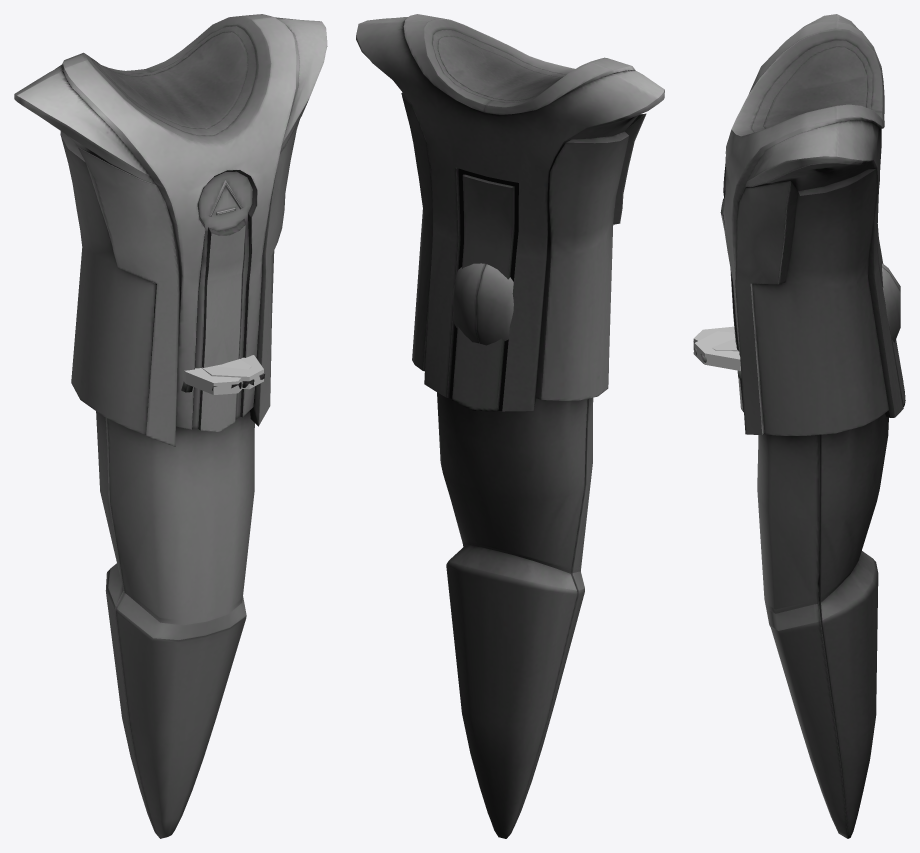
The model's file is s-series-m01.obj.
The picture shows the model from 3 angles, left to right: view 1: azimuth 30°, elevation 25°; view 2: azimuth 150°, elevation 25°; view 3: azimuth 270°, elevation 25°; orthographic projection. The views are drawn at different scales.
Visible parts, largest first — view 1: Body, BodyGlow, HandLeftCol, HandRightCol; view 2: Body, Head; view 3: Body, HandRightCol, Head, HandLeftCol.
Part boxes in pixels (bbox=[...]): Body: bbox=[14, 14, 327, 838]; BodyGlow: bbox=[192, 171, 252, 428]; HandLeftCol: bbox=[183, 359, 251, 394]; HandRightCol: bbox=[201, 355, 263, 389]; Body: bbox=[356, 14, 664, 838]; Head: bbox=[452, 263, 513, 345]; Body: bbox=[720, 14, 905, 838]; HandRightCol: bbox=[693, 331, 740, 370]; Head: bbox=[882, 263, 900, 342]; HandLeftCol: bbox=[693, 326, 738, 351].
Size of the model in its own units: 0.5315 by 1.34 by 0.3339.
3 materials, 2 textured.
